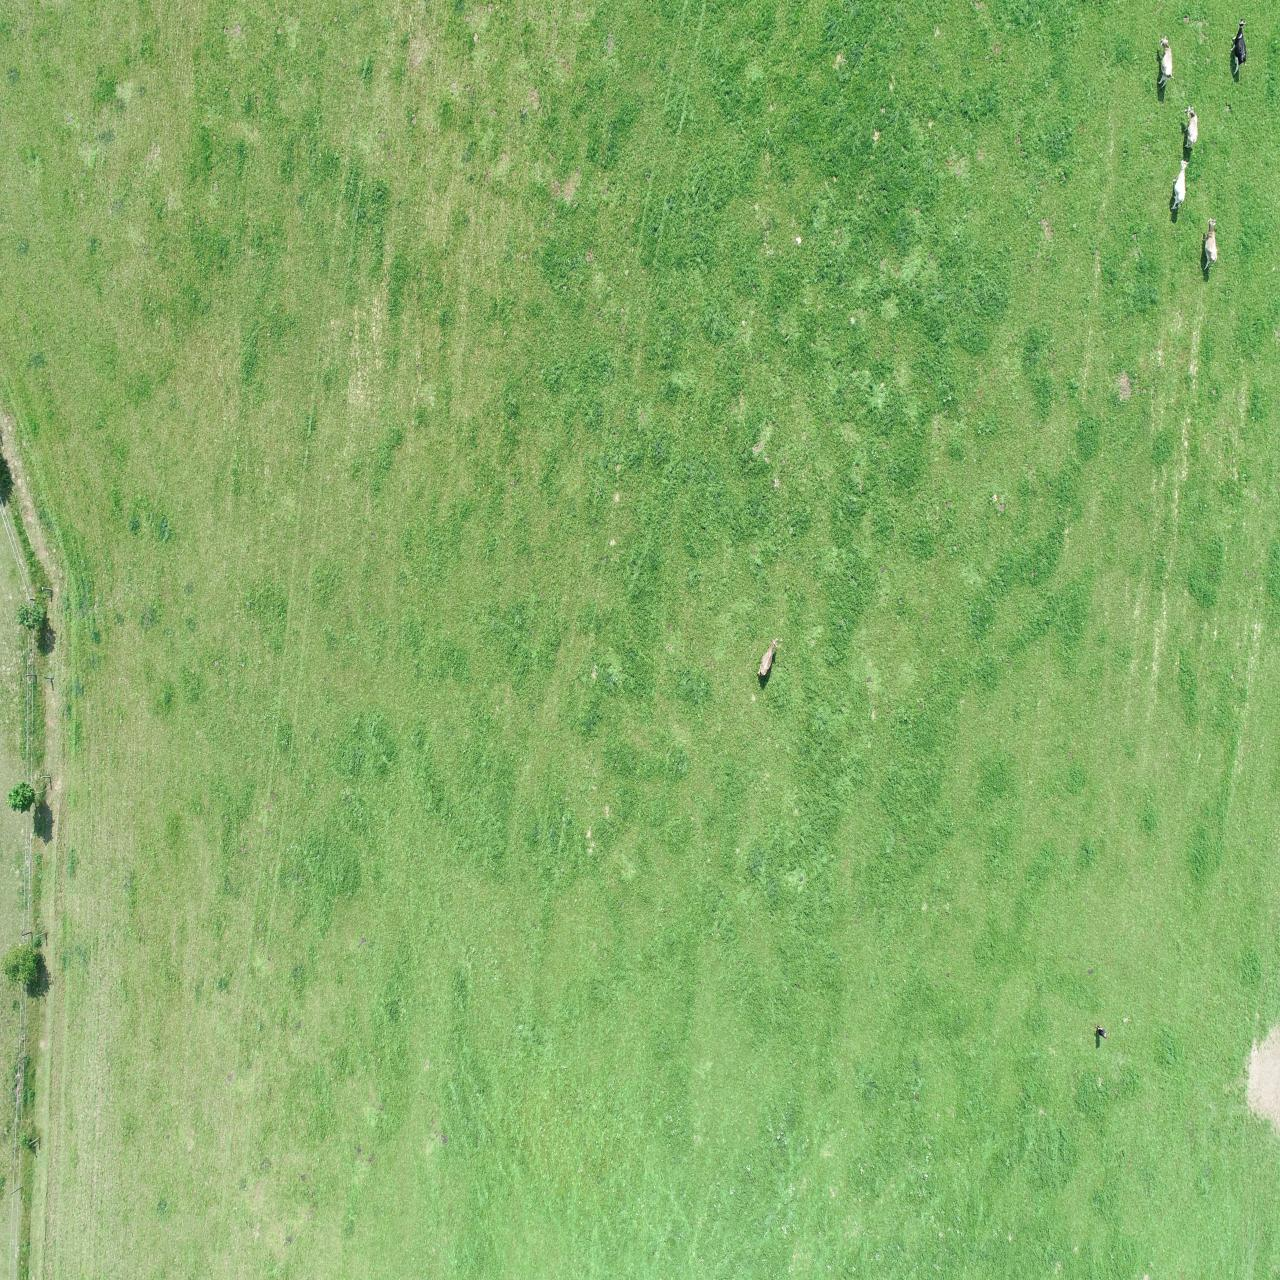cow: (1153, 32, 1177, 95), (754, 632, 780, 689), (1228, 14, 1250, 80), (1199, 215, 1221, 277), (1170, 160, 1190, 212), (1181, 104, 1201, 154)
